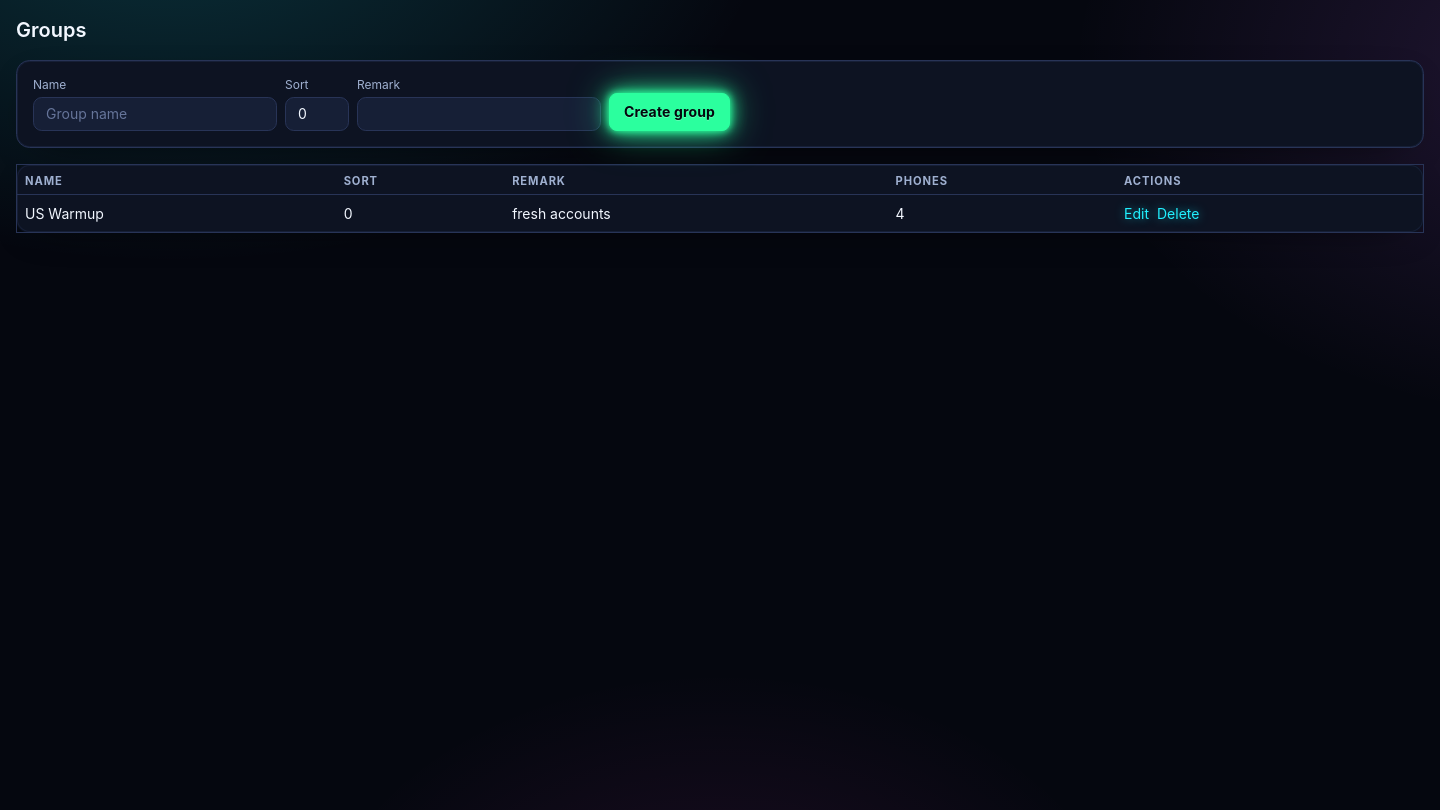
Test case: GroupsPage › creates a group via the form
Check: the text "US Warmup" is shown, box 16,194 -> 336,232
Type "New Group" into the field with placeholder "Group name" at (155, 114), box 33,97 -> 277,131
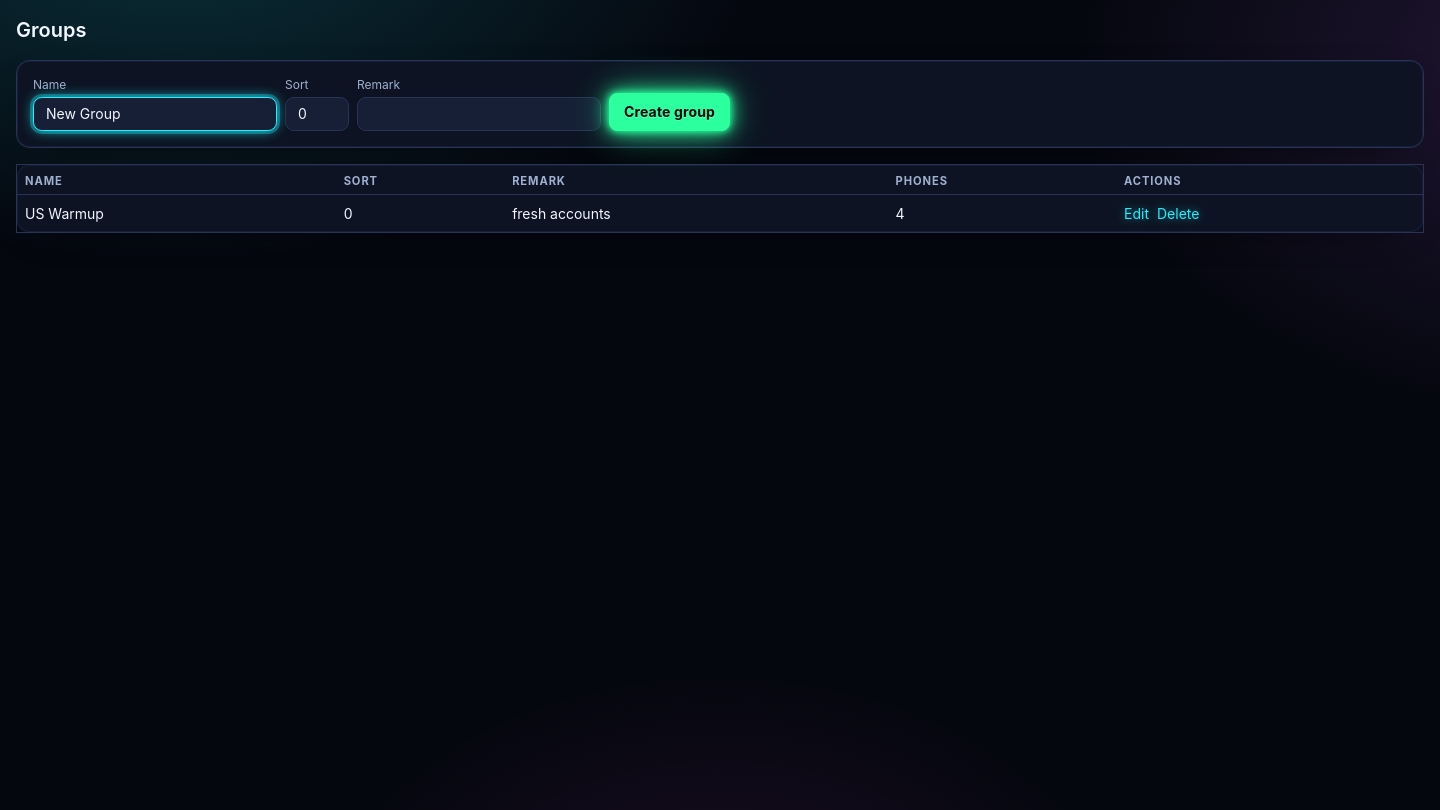
Click the button "Create group" at (670, 112), box 609,93 -> 730,131
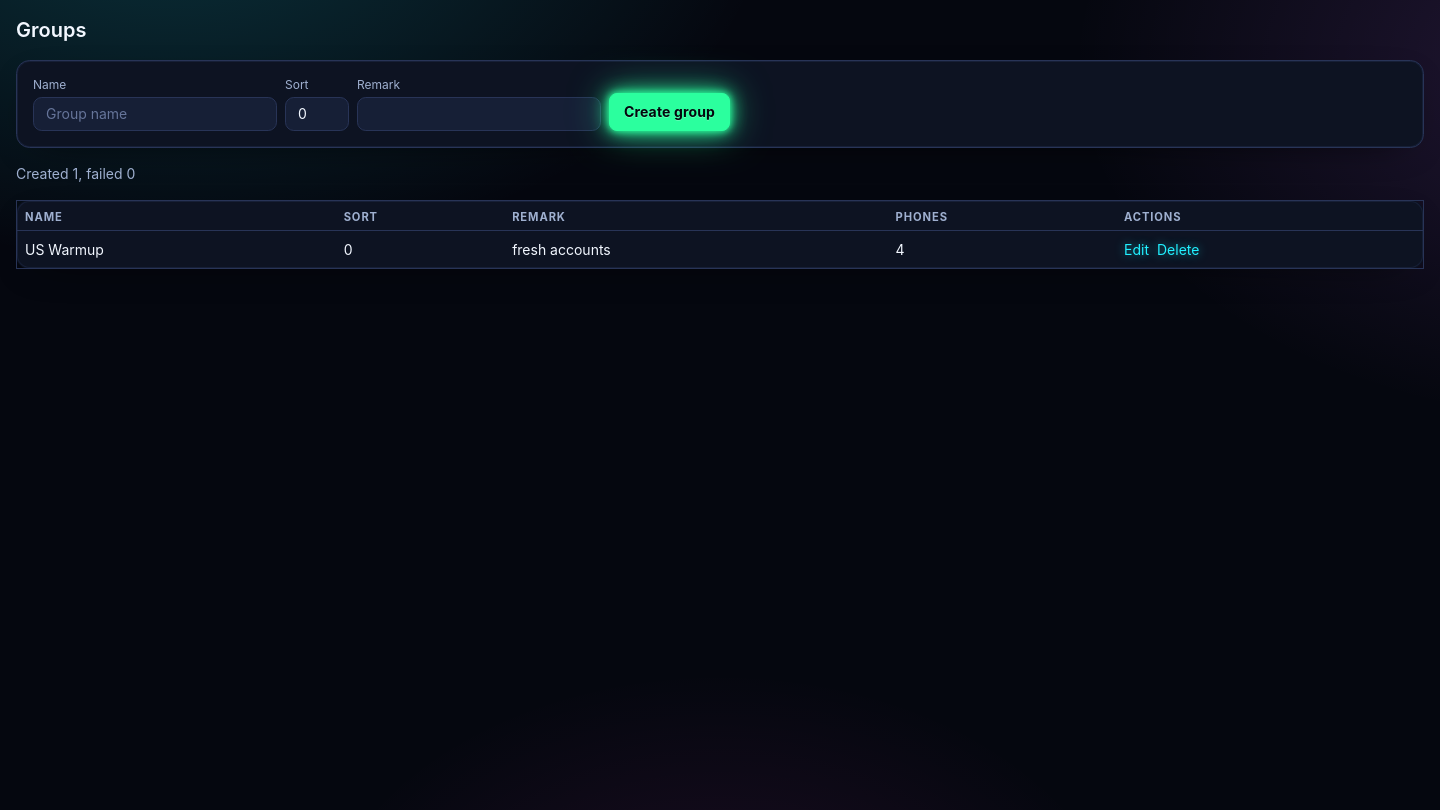
Check: the text "Created 1, failed 0" is shown, box 16,165 -> 135,182
